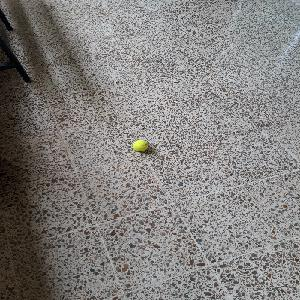Ball: (134, 139, 148, 152)
